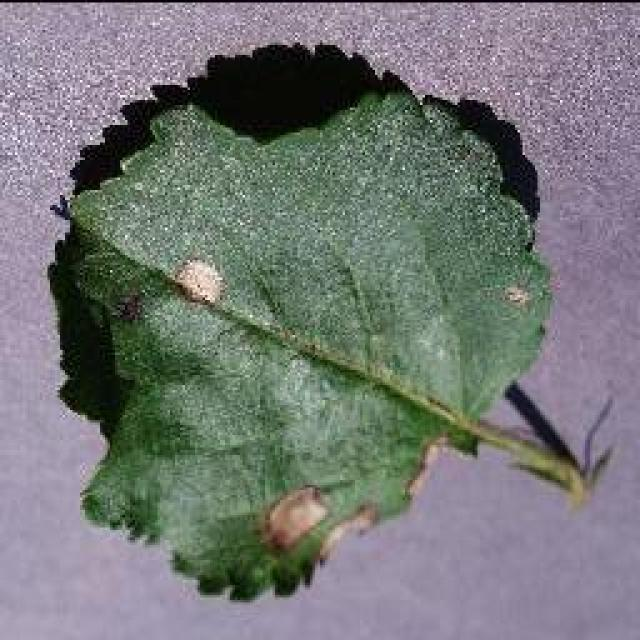apple black rot: (43, 38, 595, 600)
